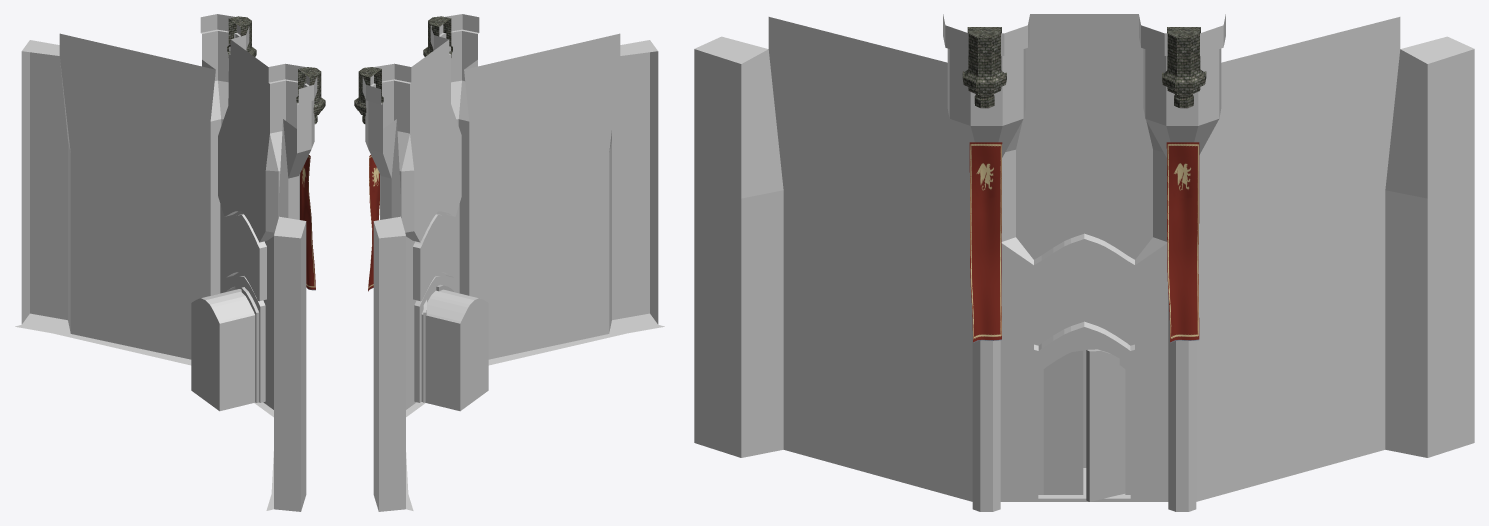
File: Castle (1).fbx
The picture shows the model from 3 angles, left to right: view 1: azimuth 30°, elevation 25°; view 2: azimuth 150°, elevation 25°; view 3: azimuth 270°, elevation 25°; orthographic projection. The views are drawn at different scales.
Parts seen in each view (by area): view 1: Cube.006, Plane.014, Cube.050, Cube.048, Cube.049; view 2: Cube.006, Plane.015, Cube.049, Cube.050; view 3: Cube.006, Plane.015, Plane.014, Cube.029, Cube.048, Cube.050, Cube.049.
Boxes of the visible parts, x1,y1,x2,y2 form: Cube.006: (15,14,317,511); Plane.014: (300,155,315,290); Cube.050: (296,67,325,124); Cube.048: (241,287,259,402); Cube.049: (227,16,256,57); Cube.006: (362,14,664,511); Plane.015: (368,155,379,291); Cube.049: (354,67,383,123); Cube.050: (423,16,452,57); Cube.006: (694,14,1474,511); Plane.015: (1166,142,1199,342); Plane.014: (969,142,1002,342); Cube.029: (1086,349,1125,501); Cube.048: (1043,350,1083,494); Cube.050: (962,27,1006,108); Cube.049: (1162,27,1206,108).
Size of the model in its own units: 1243 by 2728 by 3950.
